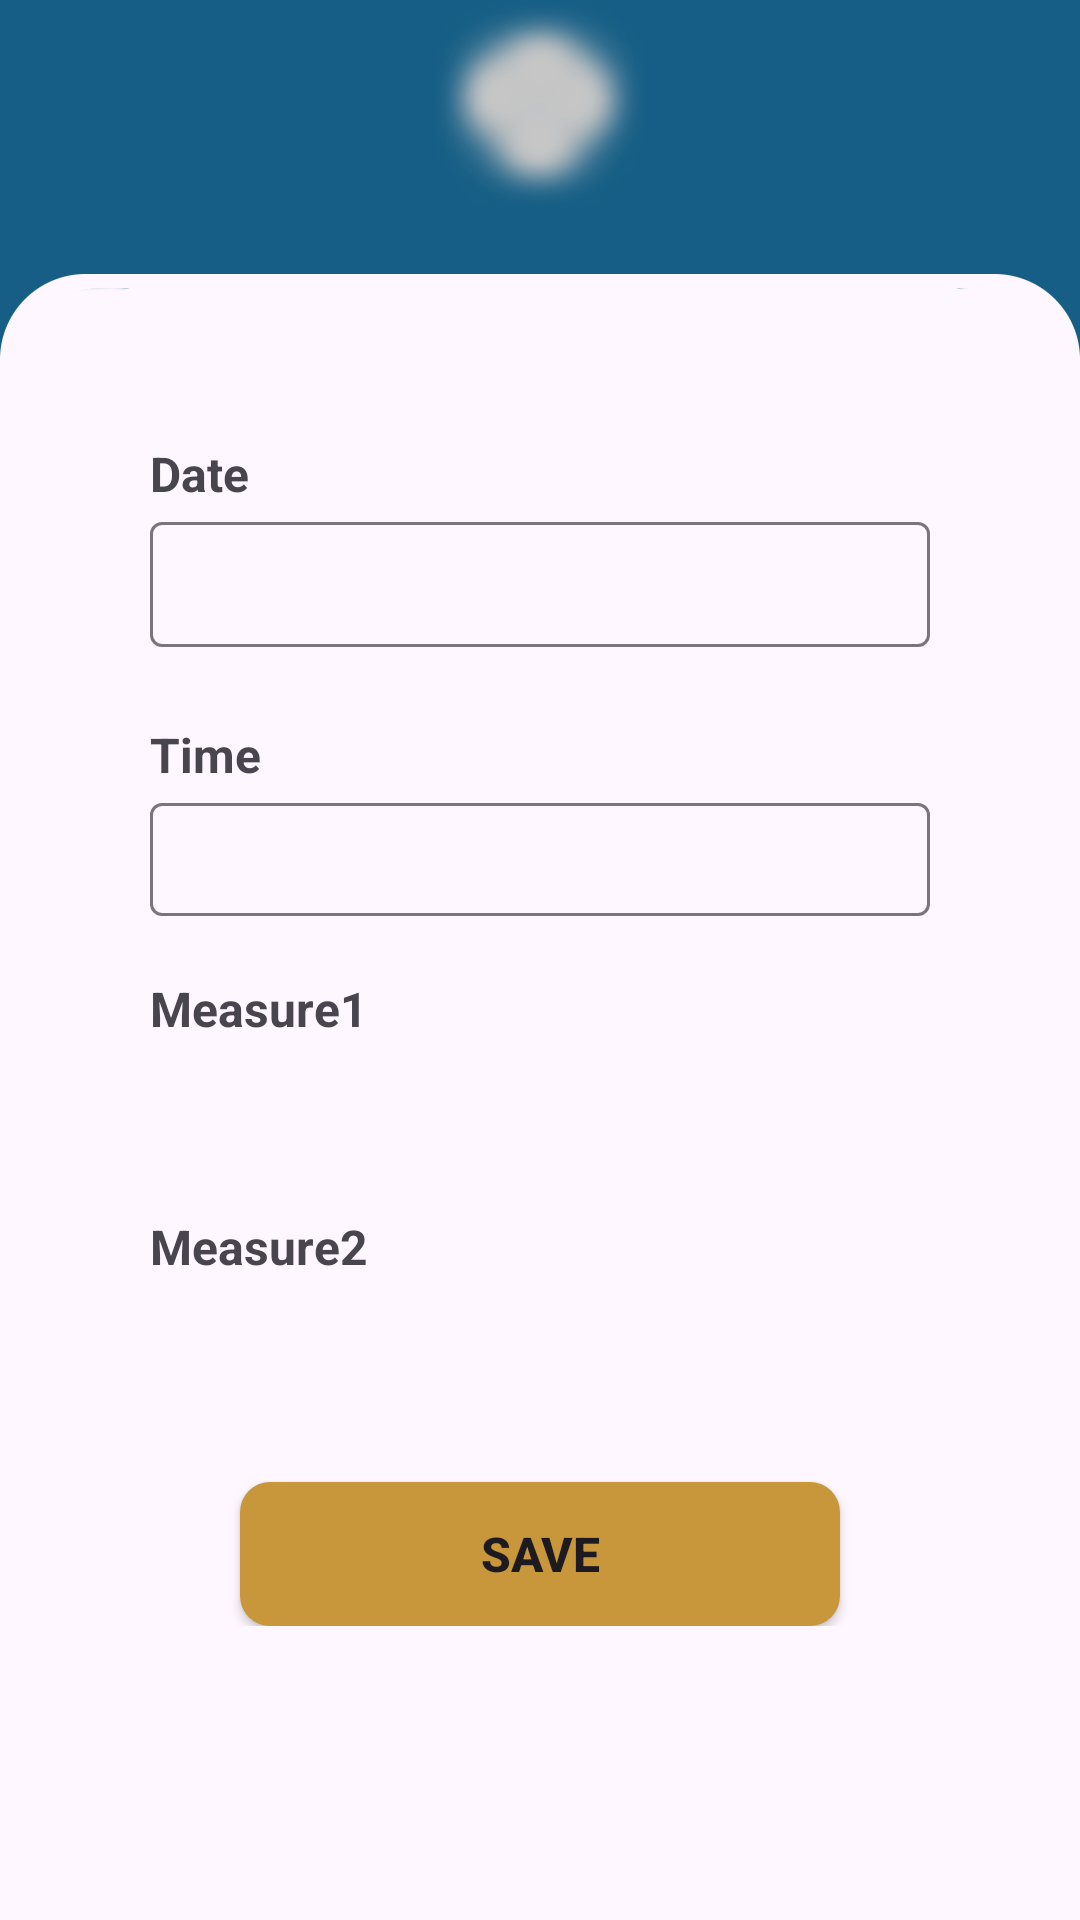

Point at icon controls on the screen. Image size 1080×1920, points as (x=x, y=y).
glow: (x=539, y=104)
